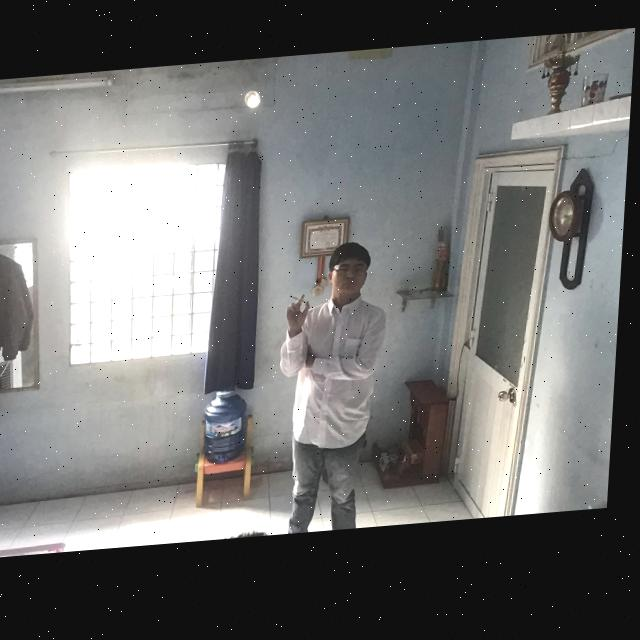cigarette: (293, 300, 311, 310)
